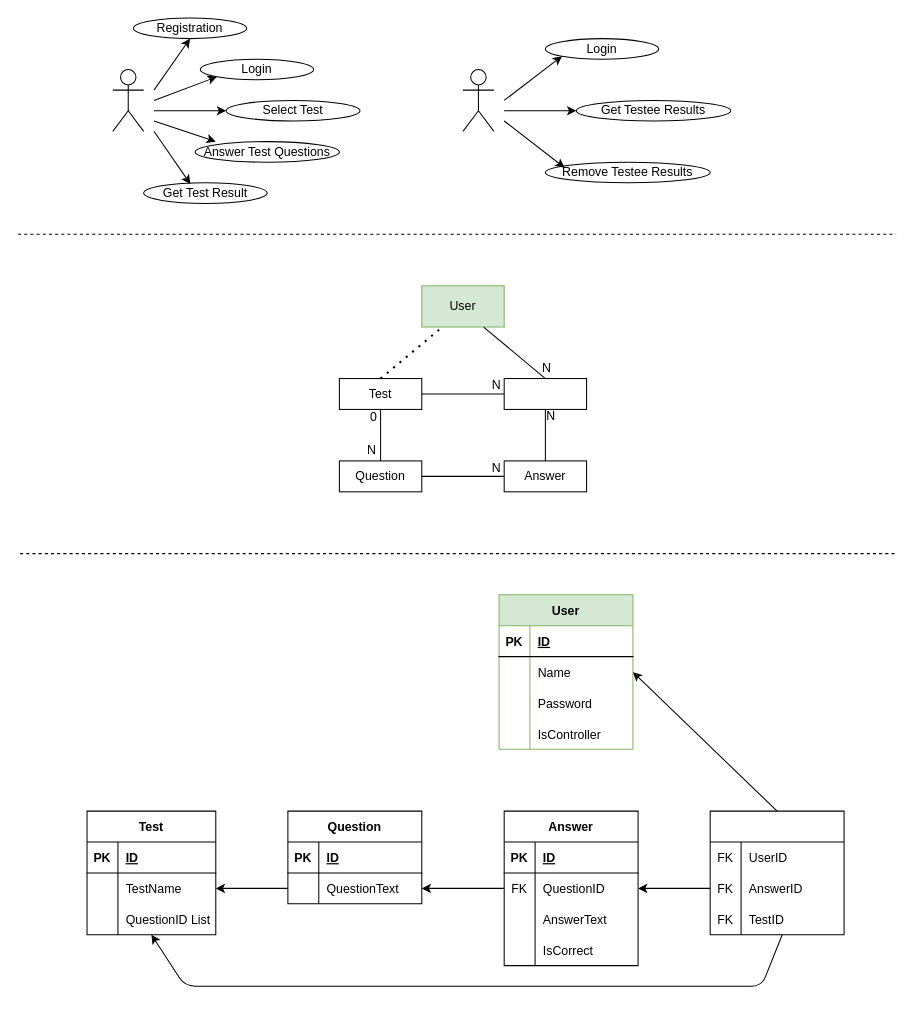
Some shapes in this 916 by 1012 pixel diagram are drawn without their labels. The shapes that lost their labels are listed below. From the top down, each one's box as (x1, y1, x2, y2) in pixels, then its label:
(112, 68, 144, 131): Testee
(462, 68, 494, 131): Controller
(503, 377, 587, 409): Testee Answer
(709, 810, 844, 935): UserAnswer
